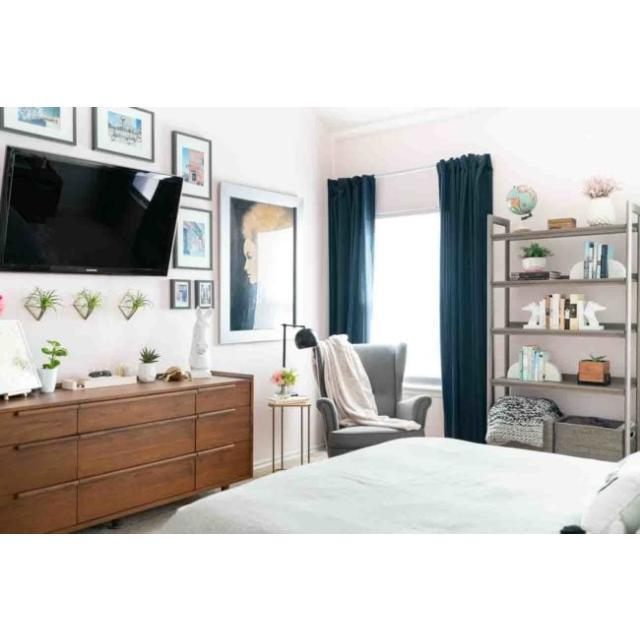dresser: (0, 366, 253, 532)
